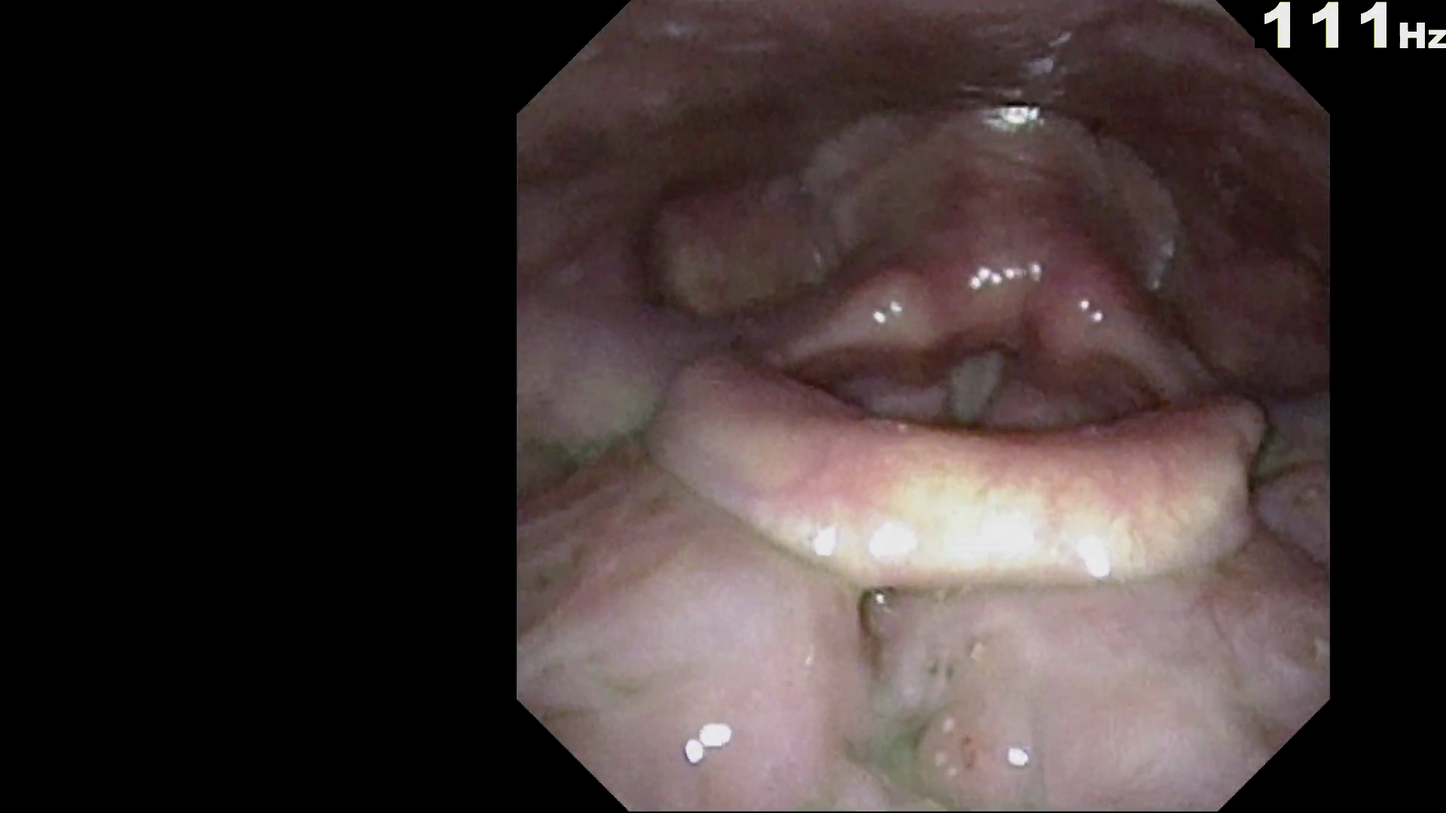epiglottis: (642, 335, 1287, 597)
trachea: (930, 324, 1021, 439)
